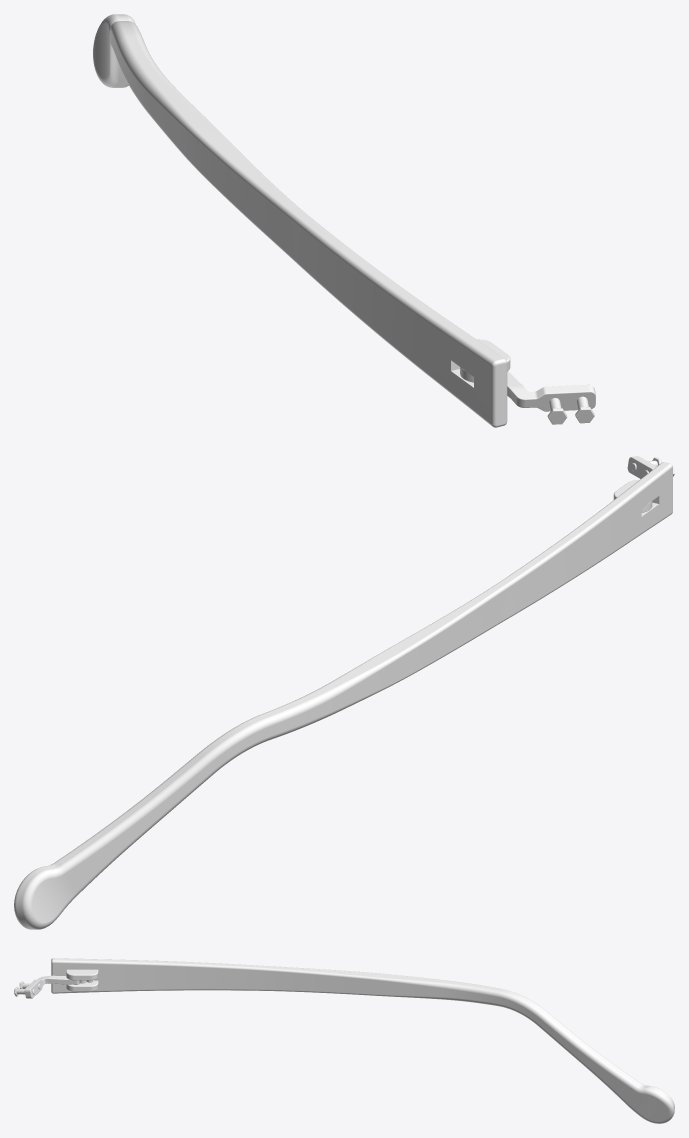
File: rTemplePlast.gltf
3 views of the same model, one above another, from view 1: azimuth 30°, elevation 25°; view 2: azimuth 150°, elevation 25°; view 3: azimuth 270°, elevation 25° (orthographic). The views are drawn at different scales.
Parts seen in each view (by area): view 1: ASTA_PLASTICA_DX, CERNIERA_DX; view 2: ASTA_PLASTICA_DX; view 3: ASTA_PLASTICA_DX, CERNIERA_DX.
Boxes of the visible parts, bbox=[...] form: ASTA_PLASTICA_DX: bbox=[93, 14, 510, 427]; CERNIERA_DX: bbox=[460, 367, 595, 424]; ASTA_PLASTICA_DX: bbox=[14, 462, 672, 929]; ASTA_PLASTICA_DX: bbox=[51, 958, 674, 1123]; CERNIERA_DX: bbox=[14, 975, 93, 998].
Size of the model in its own units: 30.82 by 26.36 by 143.
2 materials, 1 textured.
